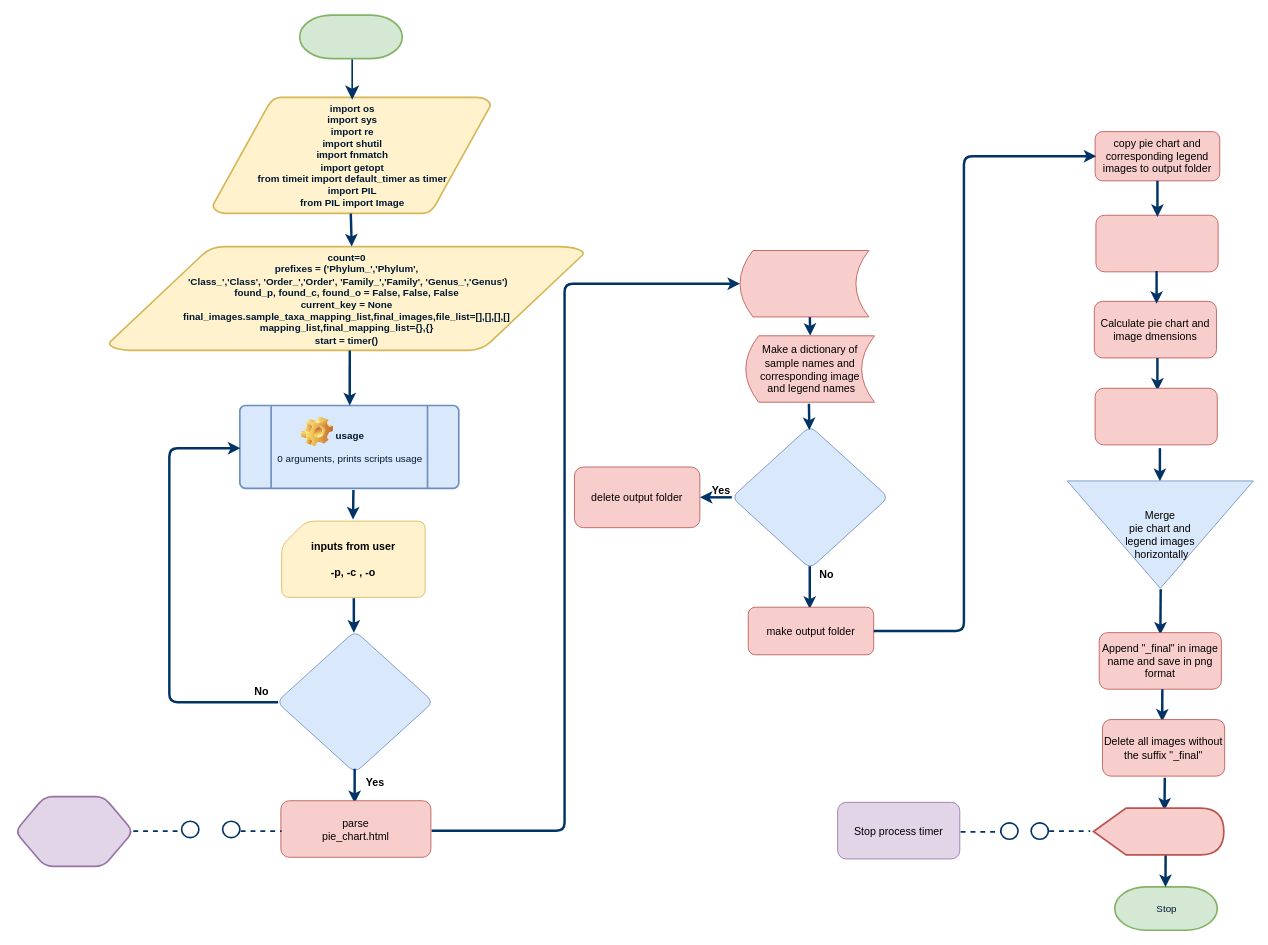
The diagram is 1268 pixels wide and 945 high, and some of its shapes have lost their labels. The centre of each missing label's shape, as x and y in pixels:
-c or -p or -o provided ?: point 354,701
Create blank image according to image dimensions: point 1155,416
output directory exists ?: point 809,497
Parse taxonomy and corresponding image names into a list: point 804,283
Print execution time in seconds: point 1158,831
Rename images according to pie chart and corresponding legends: point 1156,243
Start: point 350,36
Start process timer: point 74,831
